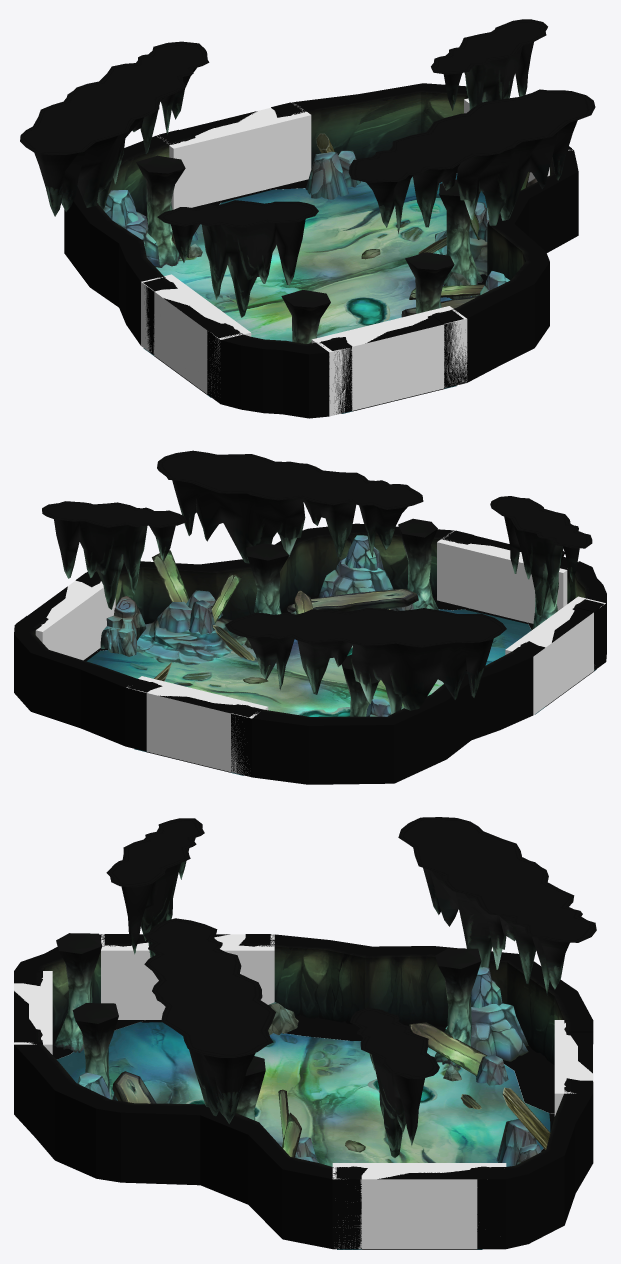
The model's file is Dungeon_073_BossRoom.fbx.
The picture shows the model from 3 angles, top to bottom: view 1: azimuth 30°, elevation 25°; view 2: azimuth 150°, elevation 25°; view 3: azimuth 270°, elevation 25°; orthographic projection. The views are drawn at different scales.
Parts seen in each view (by area): view 1: Dun_073_Room_007_top, Dun_073_Room_007_wall, DoorWay_NavMask (3) (×3), Dun_073_Room_007_ground, DoorWay_NavMask (1) (×3), Dun_073_OB_Pillar, Dun_073_OB_Stone02, Dun_073_Door_002 (×3), Dun_073_OB_Rubble, Dun_073_OB_Big_stone, Dun_073_OB_Asiato01, Dun_073_OB_Stone01; view 2: Dun_073_Room_007_top, Dun_073_Room_007_wall, DoorWay_NavMask (3) (×4), Dun_073_Room_007_ground, Dun_073_OB_Pillar, Dun_073_OB_Big_stone, Dun_073_OB_Rubble, Dun_073_Door_002 (×4), DoorWay_NavMask (1) (×2), Dun_073_OB_Stone02, Dun_073_OB_Stone03, Dun_073_OB_Small_rubble; view 3: Dun_073_Room_007_wall, Dun_073_Room_007_top, Dun_073_Room_007_ground, DoorWay_NavMask (3) (×4), Dun_073_OB_Pillar, DoorWay_NavMask (1) (×3), Dun_073_OB_Stone02, Dun_073_Door_002 (×4), Dun_073_OB_Rubble, Dun_073_Room_007_shadow, Dun_073_OB_Stone01.
Part boxes in pixels (x1,y1,x2,y2): Dun_073_Room_007_top: (20, 19, 595, 317); Dun_073_Room_007_wall: (64, 83, 578, 418); DoorWay_NavMask (3) (×3): (141, 104, 467, 416); Dun_073_Room_007_ground: (143, 173, 486, 413); DoorWay_NavMask (1) (×3): (153, 107, 444, 410); Dun_073_OB_Pillar: (136, 155, 483, 343); Dun_073_OB_Stone02: (103, 150, 509, 295); Dun_073_Door_002 (×3): (143, 102, 463, 411); Dun_073_OB_Rubble: (171, 133, 529, 317); Dun_073_OB_Big_stone: (435, 202, 488, 275); Dun_073_OB_Asiato01: (343, 296, 390, 326); Dun_073_OB_Stone01: (187, 231, 479, 299); Dun_073_Room_007_top: (42, 450, 592, 714); Dun_073_Room_007_wall: (14, 523, 606, 784); DoorWay_NavMask (3) (×4): (35, 531, 605, 774); Dun_073_Room_007_ground: (86, 609, 596, 775); Dun_073_OB_Pillar: (246, 518, 564, 716); Dun_073_OB_Big_stone: (136, 590, 246, 664); Dun_073_OB_Rubble: (152, 550, 418, 681); Dun_073_Door_002 (×4): (16, 530, 603, 772); DoorWay_NavMask (1) (×2): (146, 606, 593, 770); Dun_073_OB_Stone02: (318, 535, 393, 716); Dun_073_OB_Stone03: (100, 596, 146, 656); Dun_073_OB_Small_rubble: (213, 625, 268, 683); Dun_073_Room_007_wall: (14, 934, 593, 1249); Dun_073_Room_007_top: (106, 817, 596, 1158); Dun_073_Room_007_ground: (57, 1022, 550, 1249); DoorWay_NavMask (3) (×4): (14, 934, 575, 1249); Dun_073_OB_Pillar: (53, 933, 481, 1120); DoorWay_NavMask (1) (×3): (14, 983, 593, 1249); Dun_073_OB_Stone02: (77, 967, 541, 1166); Dun_073_Door_002 (×4): (14, 934, 593, 1249); Dun_073_OB_Rubble: (112, 1022, 550, 1157); Dun_073_Room_007_shadow: (52, 1015, 554, 1151); Dun_073_OB_Stone01: (112, 1002, 508, 1100).
Size of what is drawn, in the model's own units: 17.09 by 5.14 by 15.36.
